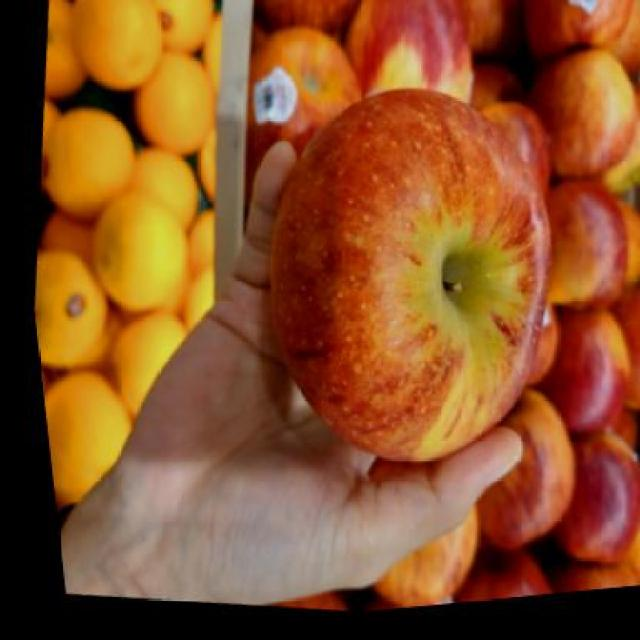Fresh Apple: (253, 84, 556, 463)
